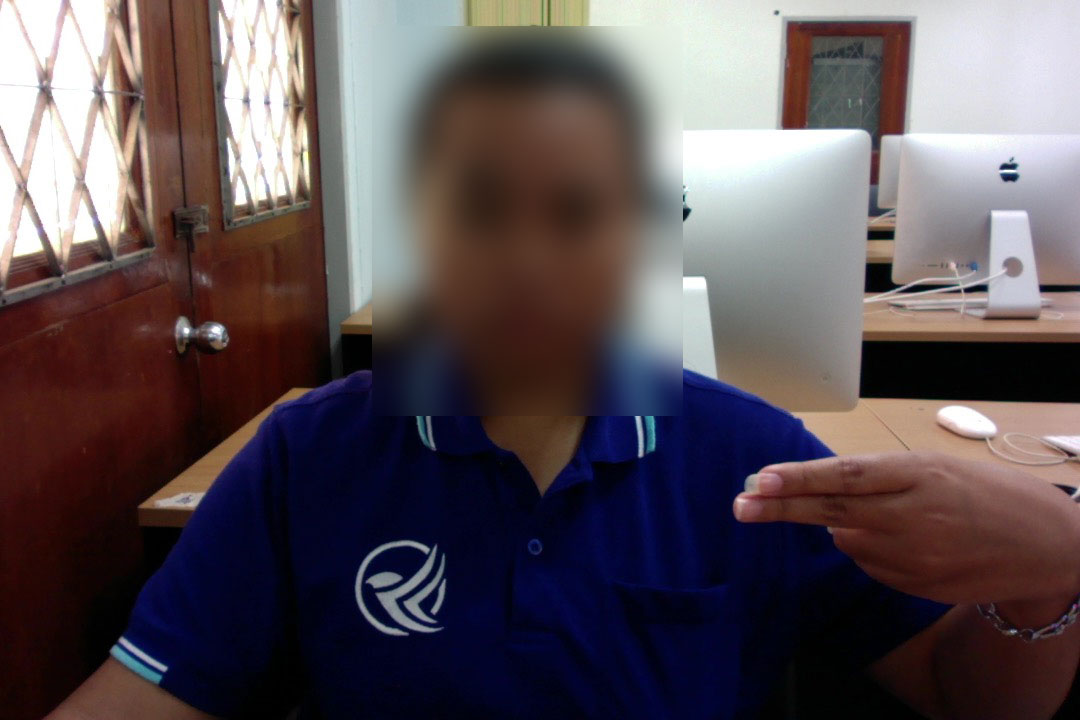hor: (718, 438, 1077, 618)
